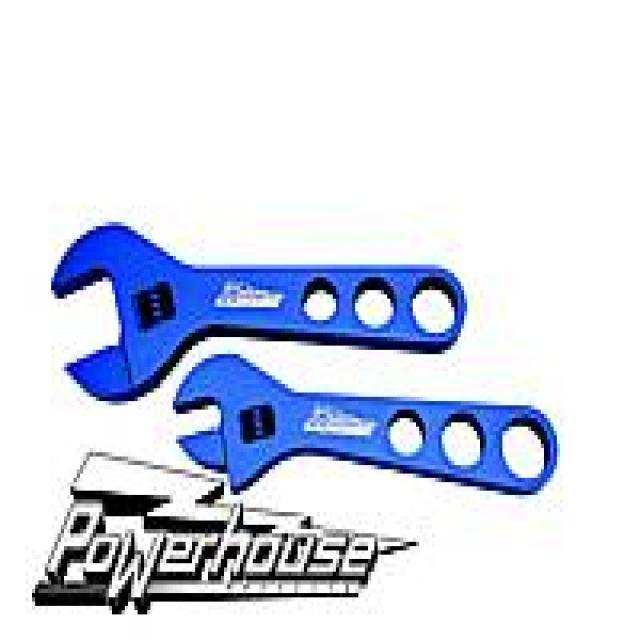wrench: (42, 217, 470, 410), (168, 350, 568, 500)
